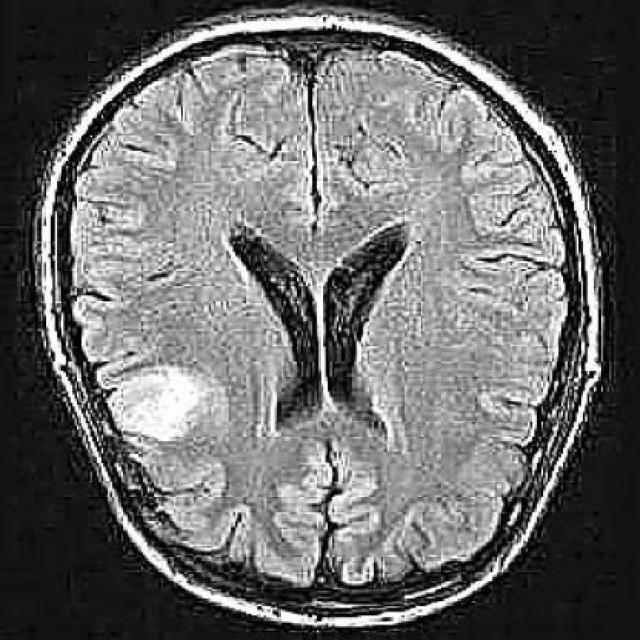Brain-Tumor: (92, 348, 234, 462)
